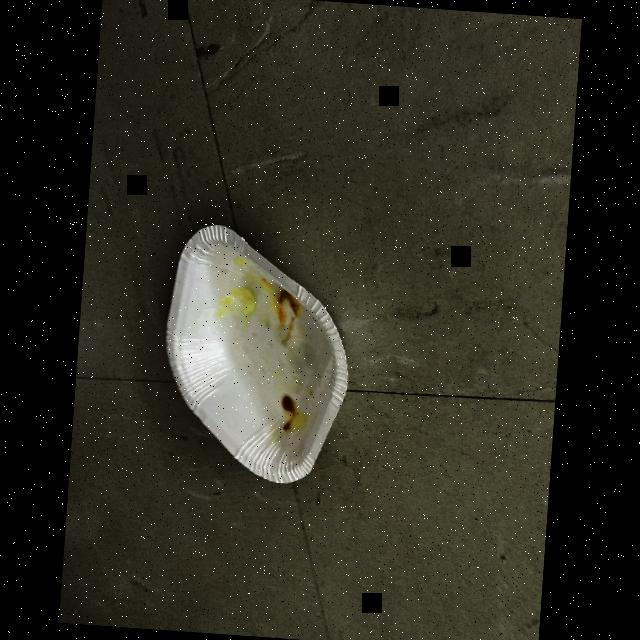cardboard_bowl: (150, 212, 363, 494)
